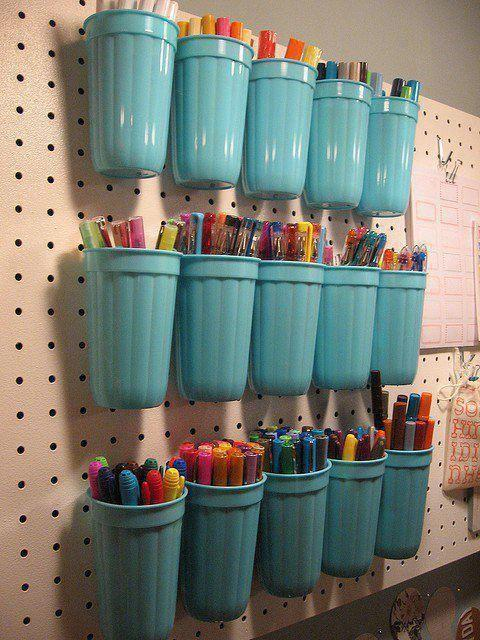HDPE: (84, 247, 183, 409), (82, 12, 177, 180), (86, 491, 187, 640), (173, 255, 261, 402), (172, 35, 254, 191), (185, 477, 267, 624), (239, 58, 319, 202), (247, 261, 326, 397), (262, 470, 332, 599), (304, 79, 368, 212), (312, 266, 381, 389), (322, 458, 388, 579), (359, 96, 419, 217), (371, 270, 428, 385), (378, 449, 431, 559)
